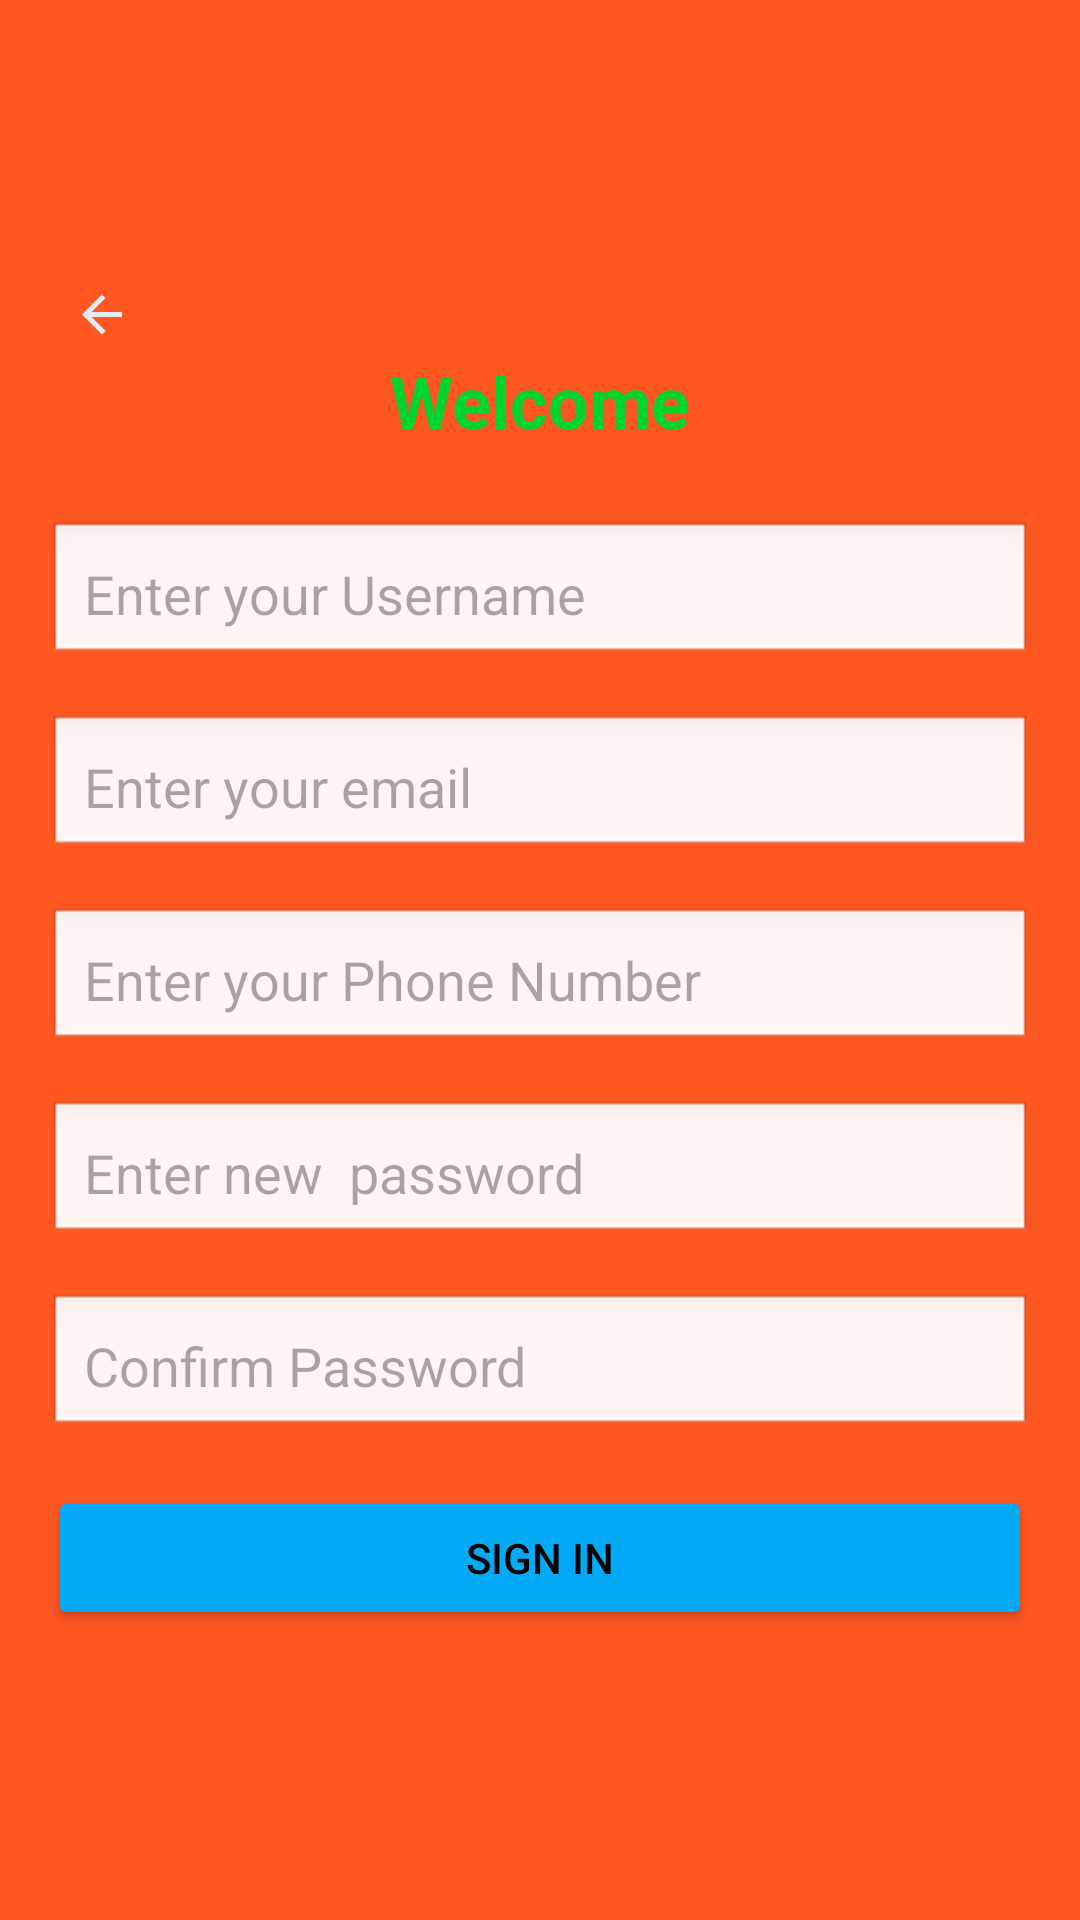

Locate icon controls on the screen. Image size 1080×1920, boxes as (x1, y1, x2, y2).
backarrow: (82, 294, 122, 335)
